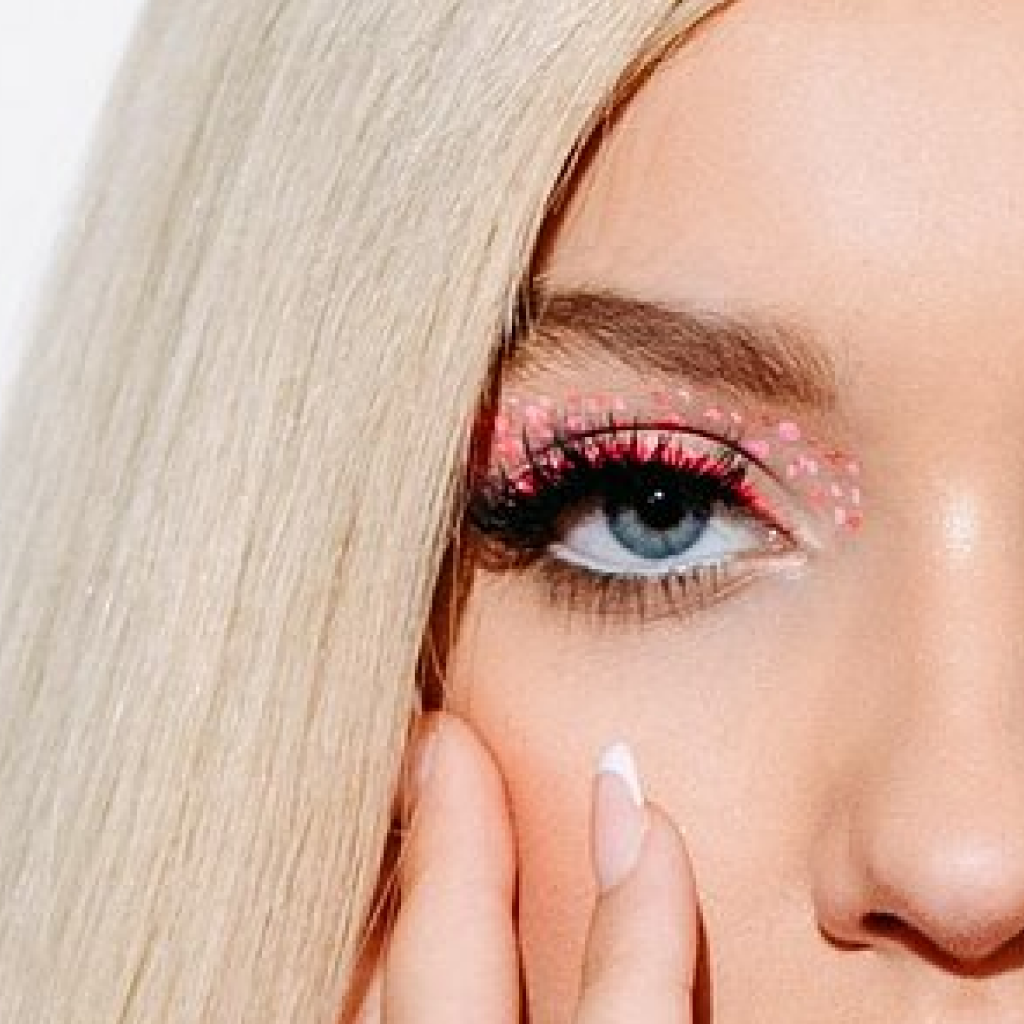iris: (607, 483, 714, 558)
pupil: (635, 483, 690, 531)
sclera: (528, 489, 776, 572)
